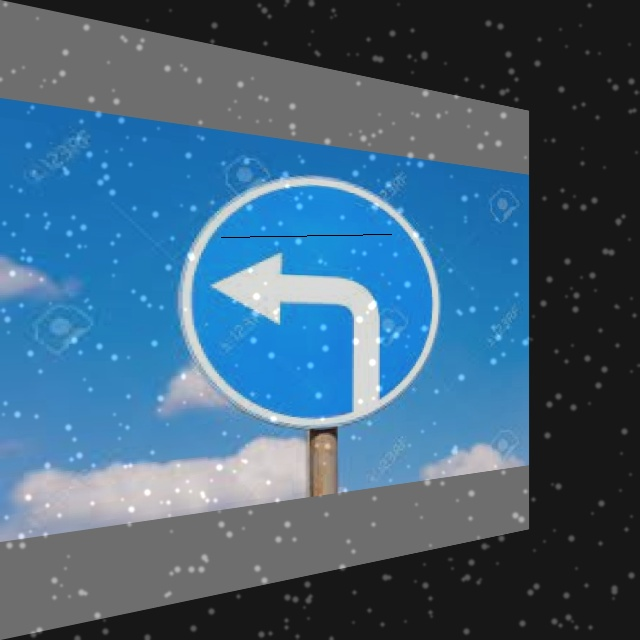Compulsory_Turn_Left_Ahead: (179, 163, 437, 430)
